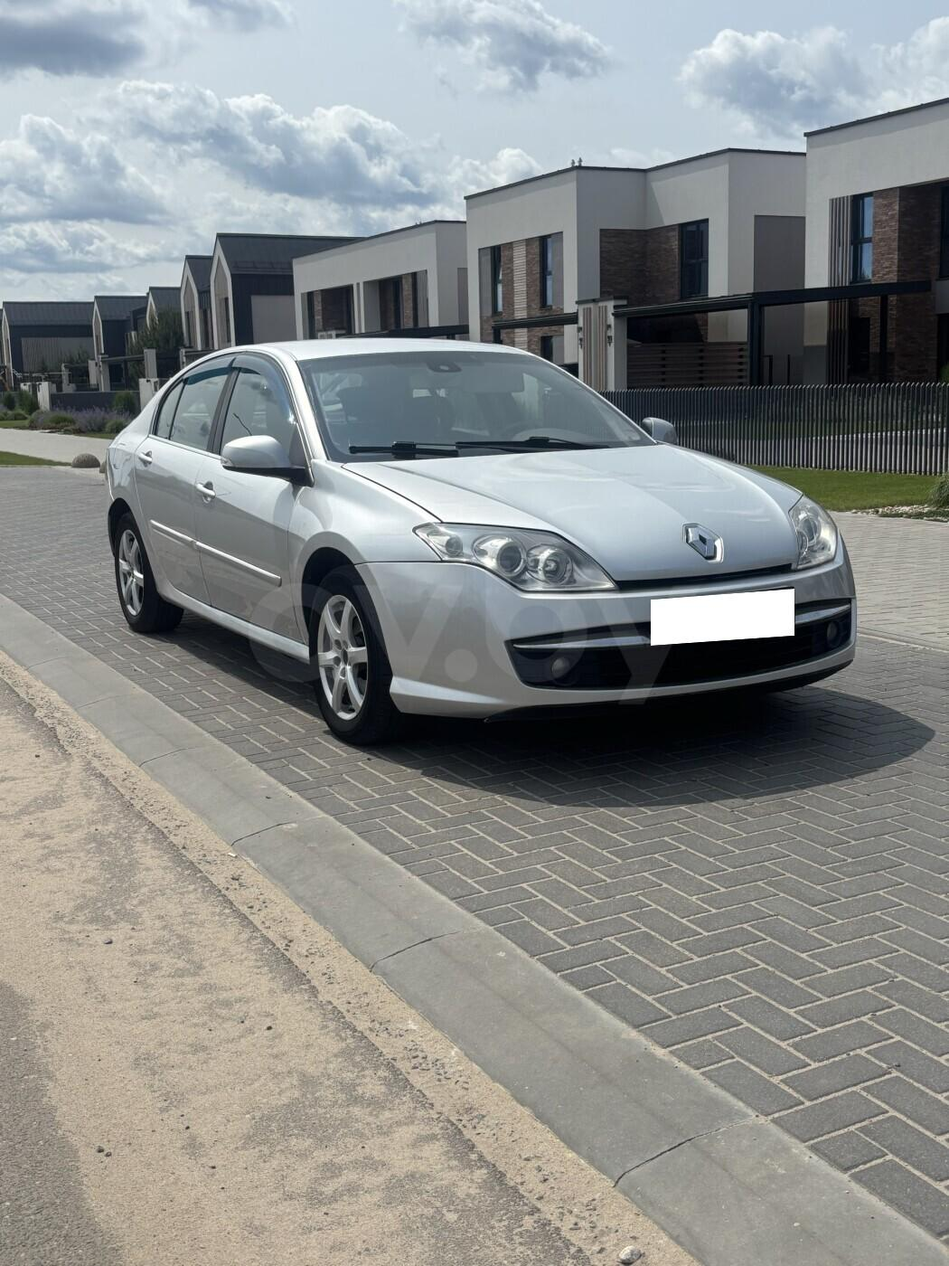Laguna_2007-2011: (107, 339, 856, 745)
